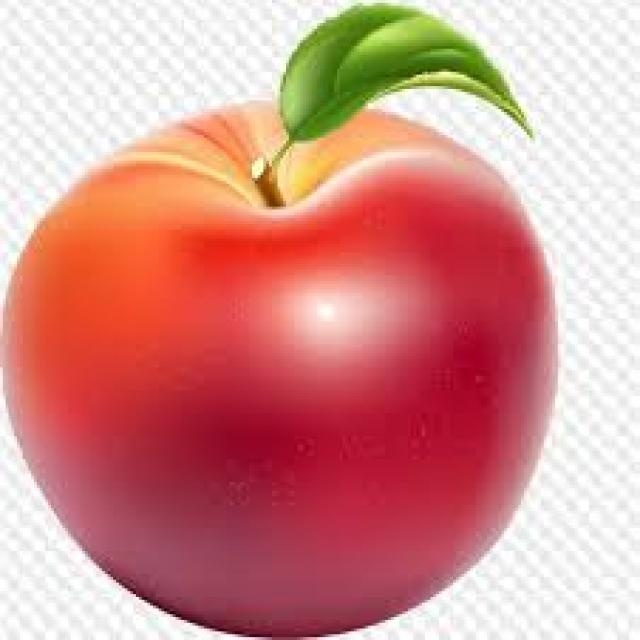agrume: (0, 60, 561, 640)
